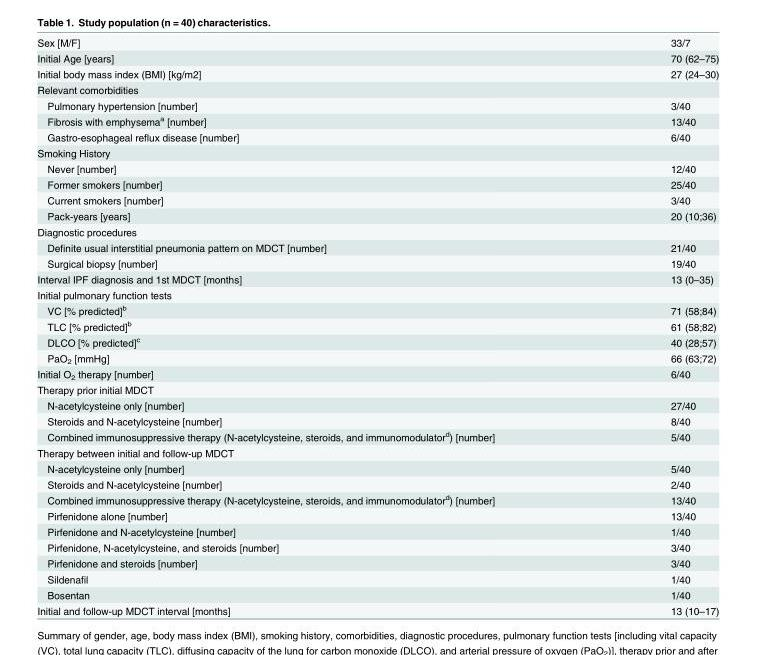table: (36, 36, 718, 616)
table column: (36, 36, 582, 616), (582, 36, 718, 616)
table projected row header: (36, 81, 718, 97), (36, 144, 718, 160), (36, 223, 718, 239), (36, 444, 718, 460), (36, 286, 718, 301), (36, 382, 718, 397)
table row: (36, 349, 718, 366), (36, 65, 718, 81), (36, 81, 718, 97), (36, 112, 718, 128), (36, 128, 718, 144), (36, 144, 718, 160), (36, 160, 718, 176), (36, 176, 718, 192), (36, 207, 718, 223), (36, 223, 718, 239), (36, 239, 718, 255), (36, 255, 718, 271), (36, 301, 718, 317), (36, 317, 718, 333), (36, 333, 718, 349), (36, 366, 718, 382), (36, 397, 718, 413), (36, 428, 718, 444), (36, 444, 718, 460), (36, 460, 718, 476), (36, 491, 718, 507), (36, 507, 718, 523), (36, 523, 718, 539), (36, 539, 718, 555), (36, 570, 718, 586), (36, 586, 718, 602), (36, 50, 718, 65), (36, 97, 718, 112), (36, 192, 718, 207), (36, 271, 718, 286), (36, 286, 718, 301), (36, 382, 718, 397), (36, 413, 718, 428), (36, 476, 718, 491), (36, 555, 718, 570), (36, 36, 718, 50), (36, 602, 718, 616)
